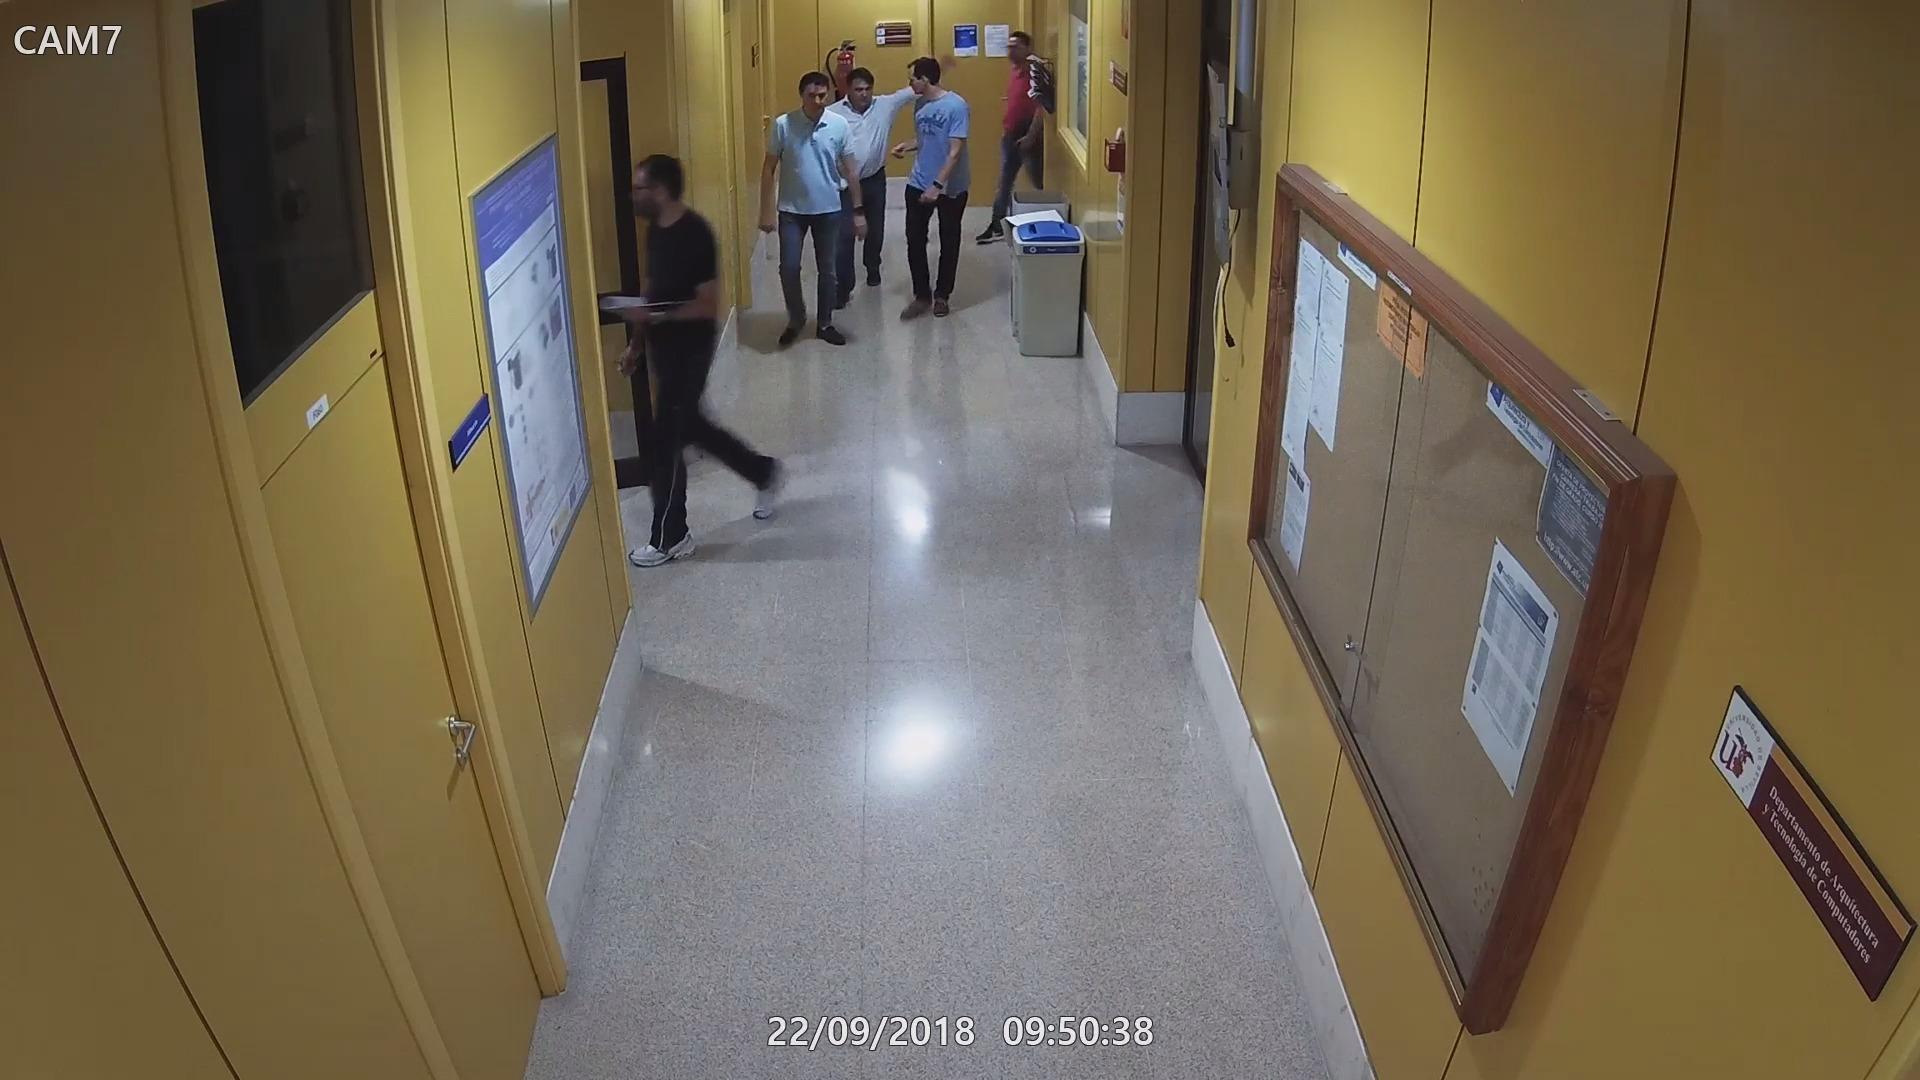Short_rifle: (1014, 113, 1047, 170)
